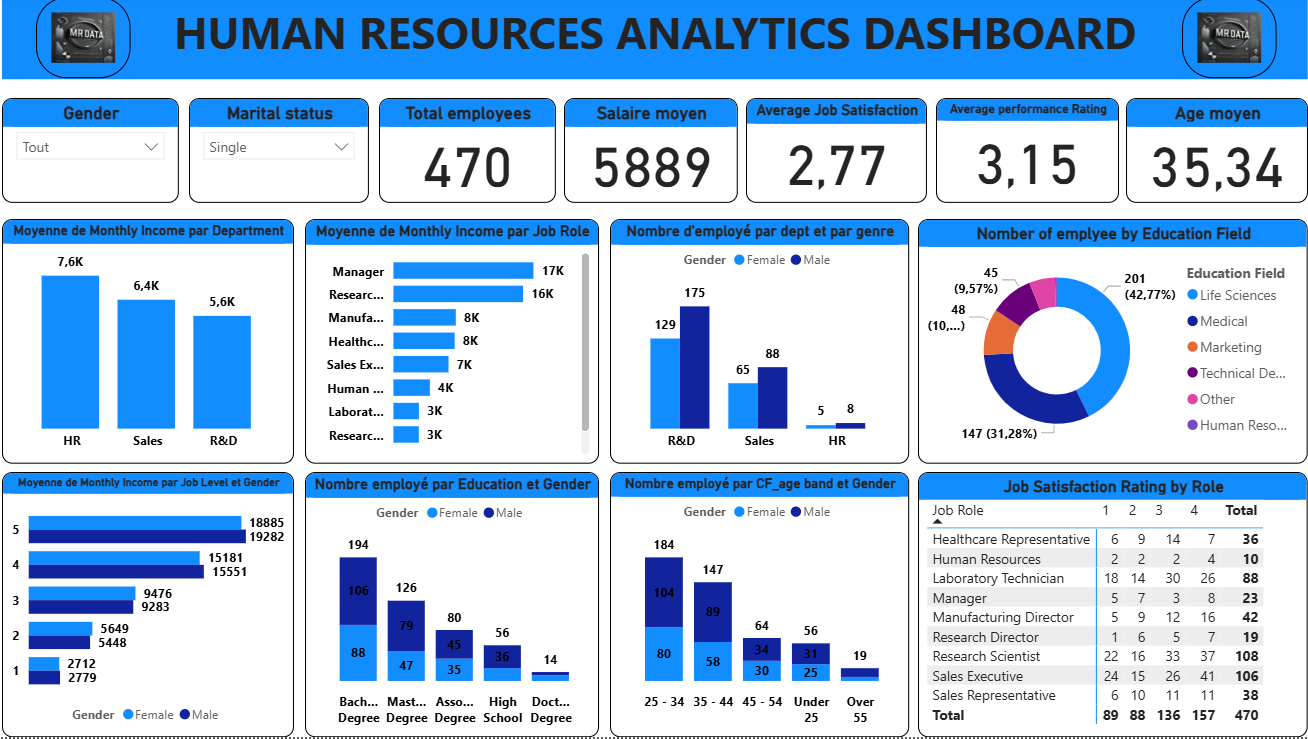

This screenshot's page, from the dashboard's own definition file:
{"tool":"powerbi","page":{"name":"Gestion des resources humaines","canvas":[1280,720],"ordinal":0},"visuals":[{"type":"textbox","box":[9.7,0,1270.3,79.8],"z":0},{"type":"slicer","title":"Gender","fields":{"Values":["HR data.Gender"]},"box":[10.2,98.6,171.8,101.7],"z":1000},{"type":"slicer","title":"Marital status","fields":{"Values":["HR data.Marital Status"]},"box":[191.1,98.6,174.9,101.7],"z":3000},{"type":"card","title":"Total employees","fields":{"Values":["HR data.Nombre employé"]},"box":[376.2,98.6,171.8,101.7],"z":4000},{"type":"card","title":"Salaire moyen","fields":{"Values":["Avg(HR data.Monthly Income)"]},"box":[556.1,98.6,168.8,101.7],"z":5000},{"type":"card","title":"Average Job Satisfaction","fields":{"Values":["Avg(HR data.Job Satisfaction)"]},"box":[733,98.6,175.9,101.7],"z":6000},{"type":"card","title":"Average performance Rating","fields":{"Values":["Avg(HR data.Performance Rating)"]},"box":[918.1,98.6,177.9,101.7],"z":7000},{"type":"card","title":"Age moyen","fields":{"Values":["Avg(HR data.Age)"]},"box":[1103.1,98.6,176.9,101.7],"z":8000},{"type":"columnChart","fields":{"Category":["HR data.Department"],"Y":["Avg(HR data.Monthly Income)"]},"box":[10.2,215.5,283.7,237.9],"z":9000},{"type":"barChart","fields":{"Y":["Avg(HR data.Monthly Income)"],"Category":["HR data.Job Role"]},"box":[304,215.5,285.7,237.9],"z":9001},{"type":"clusteredColumnChart","title":"Nombre d''employé par dept et par  genre","fields":{"Category":["HR data.Department"],"Y":["CountNonNull(HR data.emp no)"],"Series":["HR data.Gender"]},"box":[600.9,215.5,290.8,237.9],"z":9002},{"type":"donutChart","title":"Nomber of emplyee by Education Field","fields":{"Y":["CountNonNull(HR data.emp no)"],"Category":["HR data.Education Field"]},"box":[900.8,215.5,379.2,237.9],"z":9003},{"type":"clusteredBarChart","fields":{"Y":["Avg(HR data.Monthly Income)"],"Category":["HR data.Job Level"],"Series":["HR data.Gender"]},"box":[10.2,461.6,283.7,258.2],"z":9004},{"type":"columnChart","fields":{"Category":["HR data.Education"],"Y":["HR data.Nombre employé"],"Series":["HR data.Gender"]},"box":[304,461.6,285.7,258.2],"z":9005},{"type":"columnChart","fields":{"Y":["HR data.Nombre employé"],"Series":["HR data.Gender"],"Category":["HR data.CF_age band"]},"box":[600.9,461.6,290.8,258.2],"z":9006},{"type":"pivotTable","title":"Job Satisfaction Rating by Role","fields":{"Rows":["HR data.Job Role"],"Columns":["HR data.Job Satisfaction"],"Values":["HR data.Nombre employé"]},"box":[900.8,461.6,379.2,258.2],"z":9007},{"type":"image","box":[42.7,0,91.5,79.3],"z":9008},{"type":"image","box":[1157,0,91.5,79.3],"z":9009}]}

Visuals, with their boxes in screenshot pixels (x1, y1, x2, y2), scaled from the page's 1280x720 canvas onto the 1308x739 screenshot:
textbox: <bbox>10, 0, 1307, 82</bbox>
"Gender" slicer: <bbox>10, 101, 186, 206</bbox>
"Marital status" slicer: <bbox>195, 101, 374, 206</bbox>
"Total employees" card: <bbox>384, 101, 560, 206</bbox>
"Salaire moyen" card: <bbox>568, 101, 741, 206</bbox>
"Average Job Satisfaction" card: <bbox>749, 101, 929, 206</bbox>
"Average performance Rating" card: <bbox>938, 101, 1120, 206</bbox>
"Age moyen" card: <bbox>1127, 101, 1307, 206</bbox>
columnChart - HR data.Department x Avg(HR data.Monthly Income): <bbox>10, 221, 300, 465</bbox>
barChart - Avg(HR data.Monthly Income) x HR data.Job Role: <bbox>311, 221, 603, 465</bbox>
"Nombre d''employé par dept et par  genre" clusteredColumnChart: <bbox>614, 221, 911, 465</bbox>
"Nomber of emplyee by Education Field" donutChart: <bbox>921, 221, 1307, 465</bbox>
clusteredBarChart - Avg(HR data.Monthly Income) x HR data.Job Level: <bbox>10, 474, 300, 738</bbox>
columnChart - HR data.Education x HR data.Nombre employé: <bbox>311, 474, 603, 738</bbox>
columnChart - HR data.Nombre employé x HR data.Gender: <bbox>614, 474, 911, 738</bbox>
"Job Satisfaction Rating by Role" pivotTable: <bbox>921, 474, 1307, 738</bbox>
image: <bbox>44, 0, 137, 81</bbox>
image: <bbox>1182, 0, 1276, 81</bbox>
